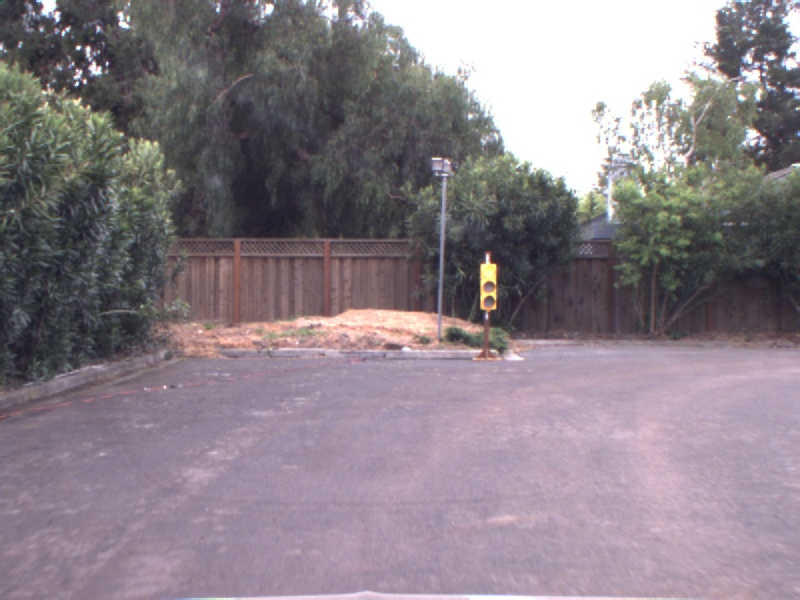red: (477, 256, 499, 314)
